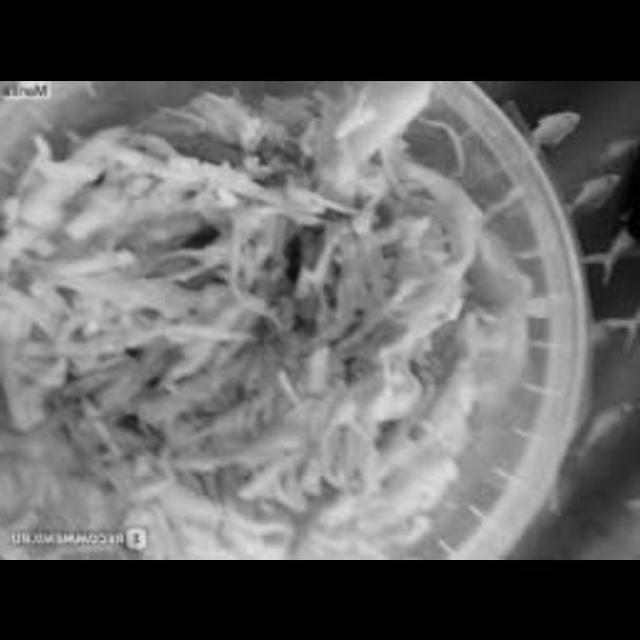ca rot: (9, 346, 136, 449), (406, 300, 491, 436)
cai bap: (27, 107, 506, 558)
